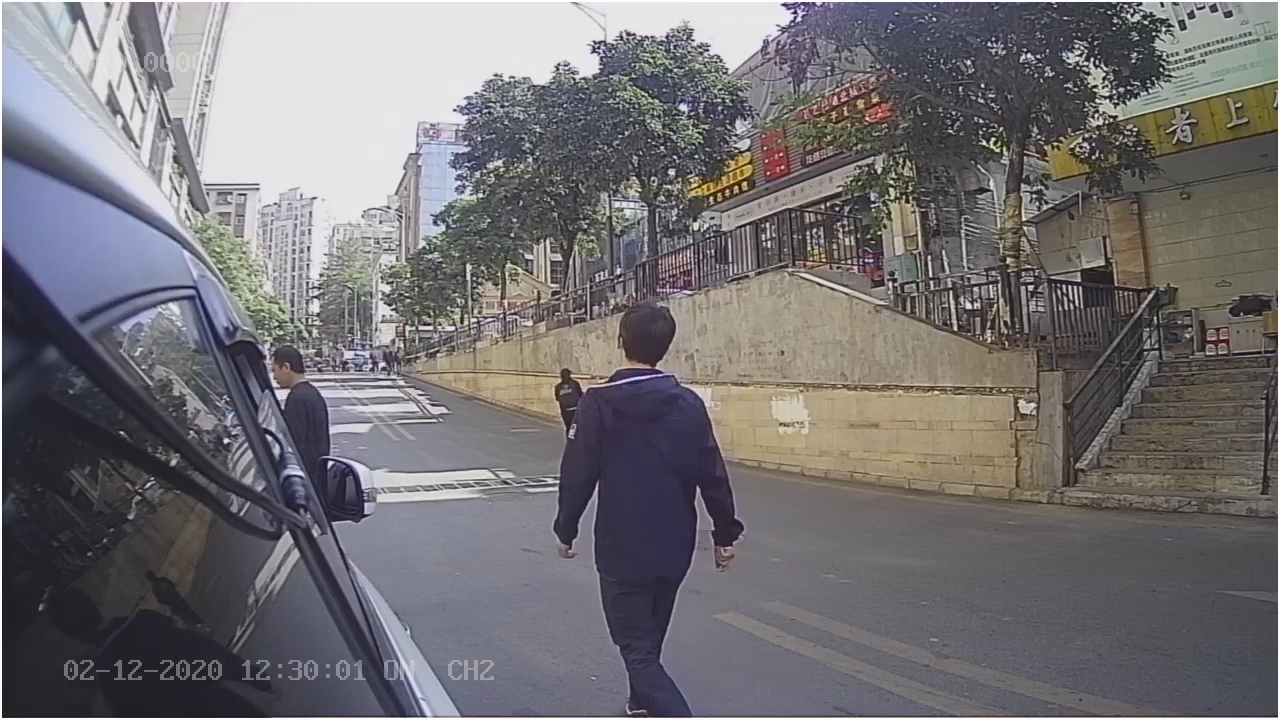person: (551, 301, 755, 575)
